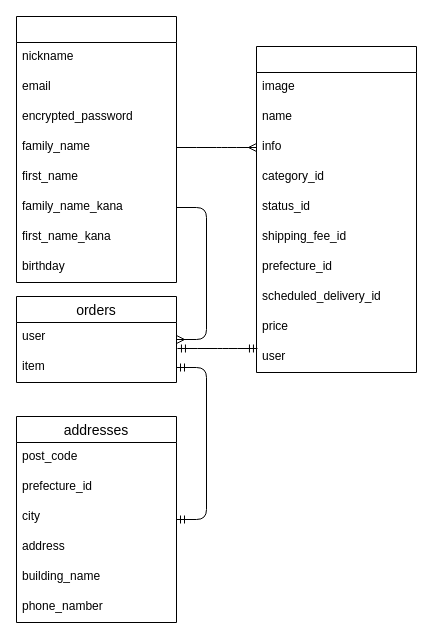
This 433x639 diagram has some shape labels left out. The box of each missing label's shape, as (x1, y1, x2, y2) in pixels:
items: (256, 46, 416, 372)
users: (16, 16, 176, 282)
